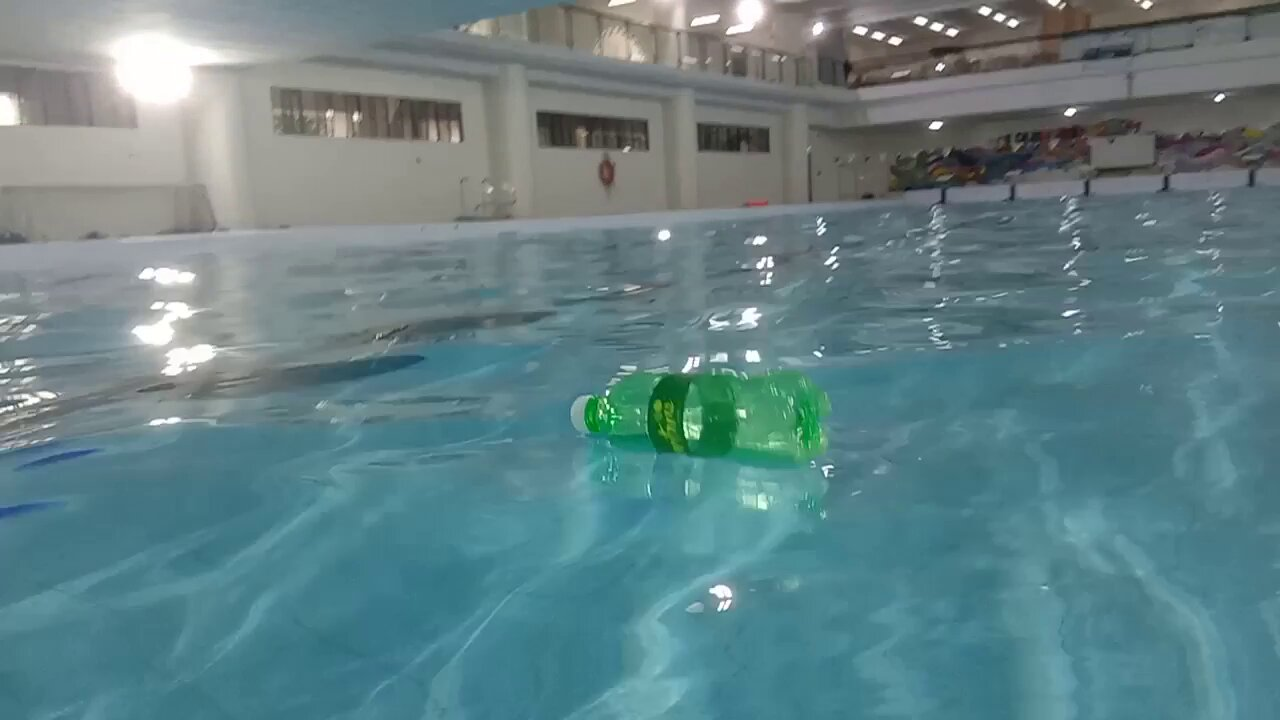plastic_bottle: (570, 369, 835, 472)
